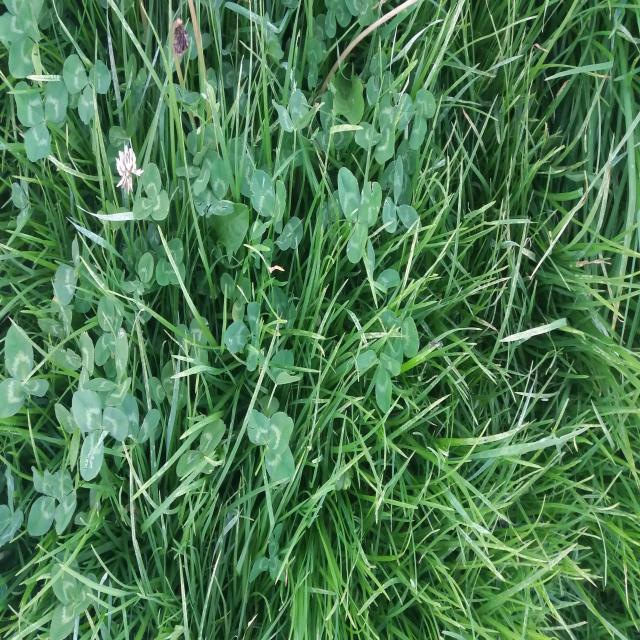Four Leaf Clover: (94, 296, 124, 367)
